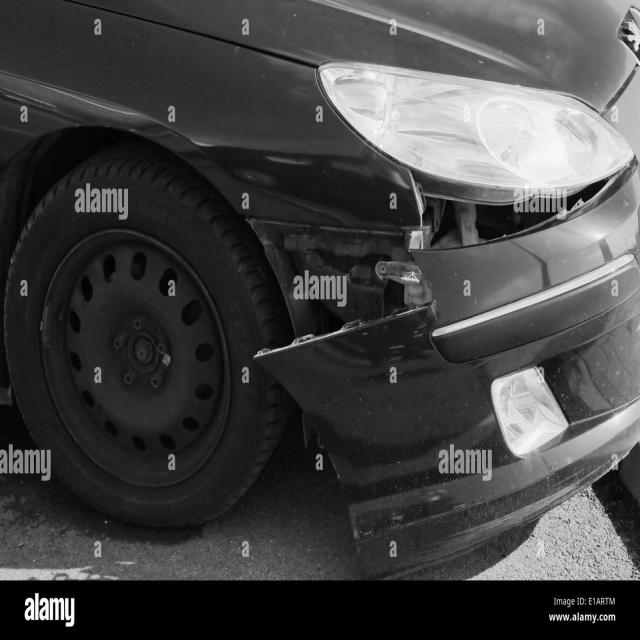misalignment: (243, 159, 638, 355)
